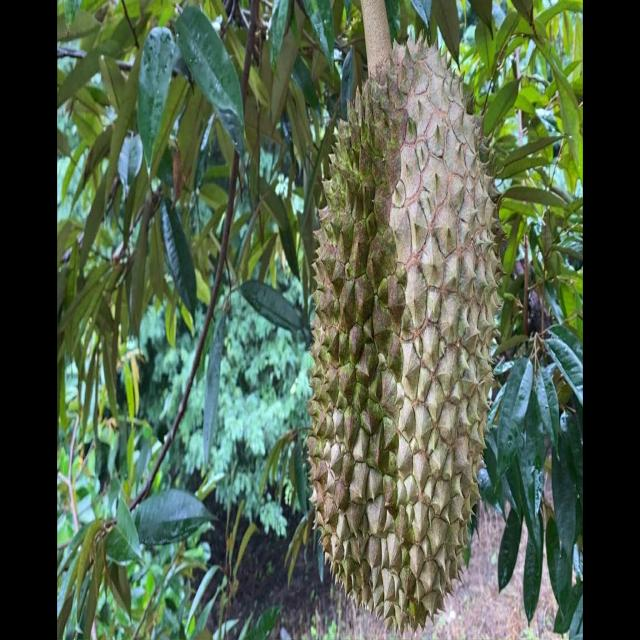RIPE: (305, 27, 503, 631)
